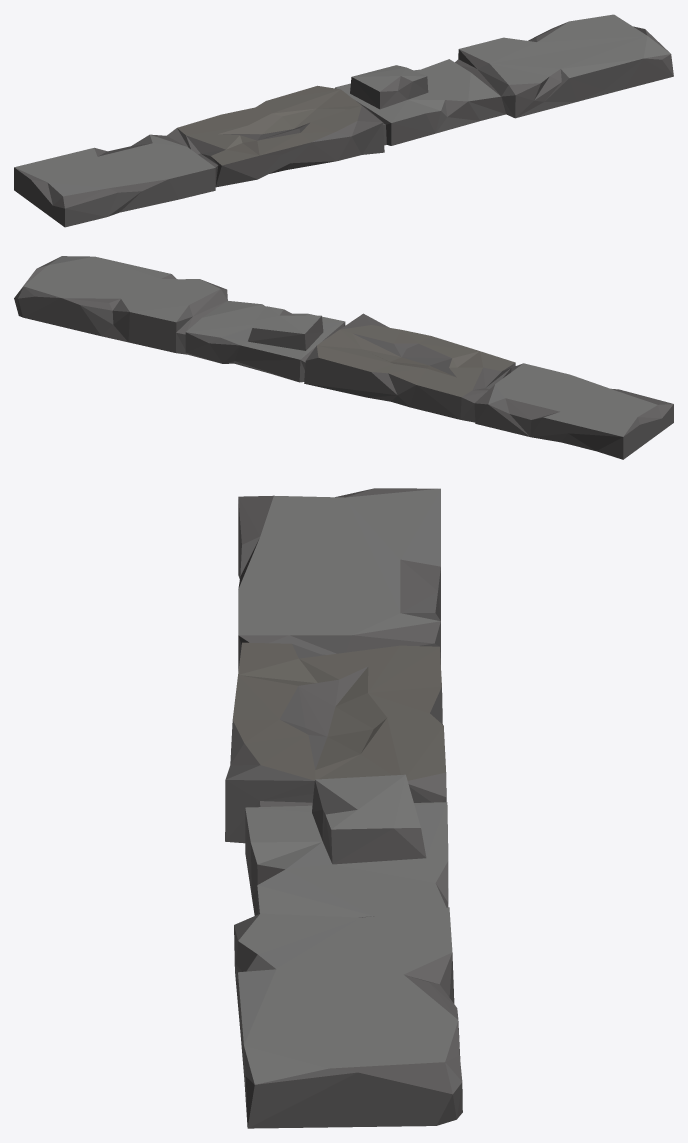
The model's file is SM_Env_Wall_Trim_Floor_01.FBX.
3 views of the same model, one above another, from view 1: azimuth 30°, elevation 25°; view 2: azimuth 150°, elevation 25°; view 3: azimuth 270°, elevation 25° (orthographic). The views are drawn at different scales.
Visible parts, largest first — view 1: SM_Env_Wall_Trim_Floor_01; view 2: SM_Env_Wall_Trim_Floor_01; view 3: SM_Env_Wall_Trim_Floor_01.
Boxes of the visible parts, x1=… form: SM_Env_Wall_Trim_Floor_01: x1=14, y1=14, x2=673, y2=227; SM_Env_Wall_Trim_Floor_01: x1=14, y1=256, x2=673, y2=459; SM_Env_Wall_Trim_Floor_01: x1=225, y1=488, x2=462, y2=1128.
Size of what is drawn, in the model's own units: 496 by 83.77 by 32.44.
